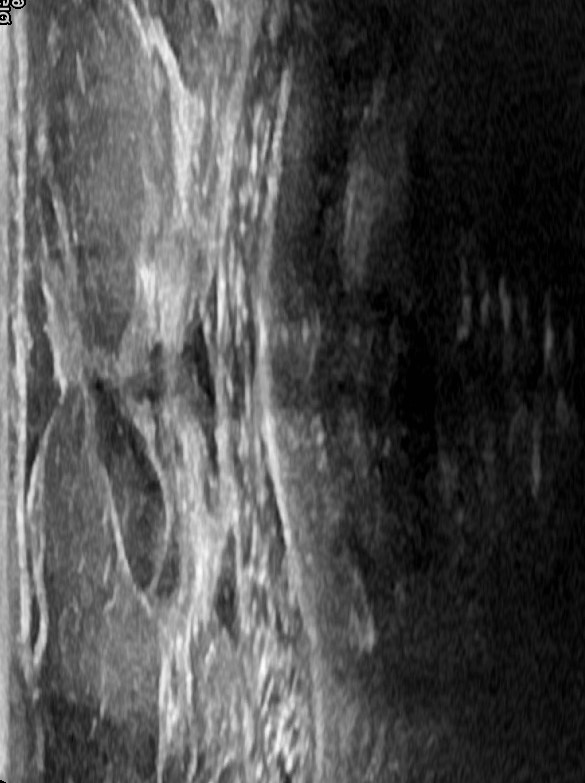Normal: (1, 8, 543, 781)
